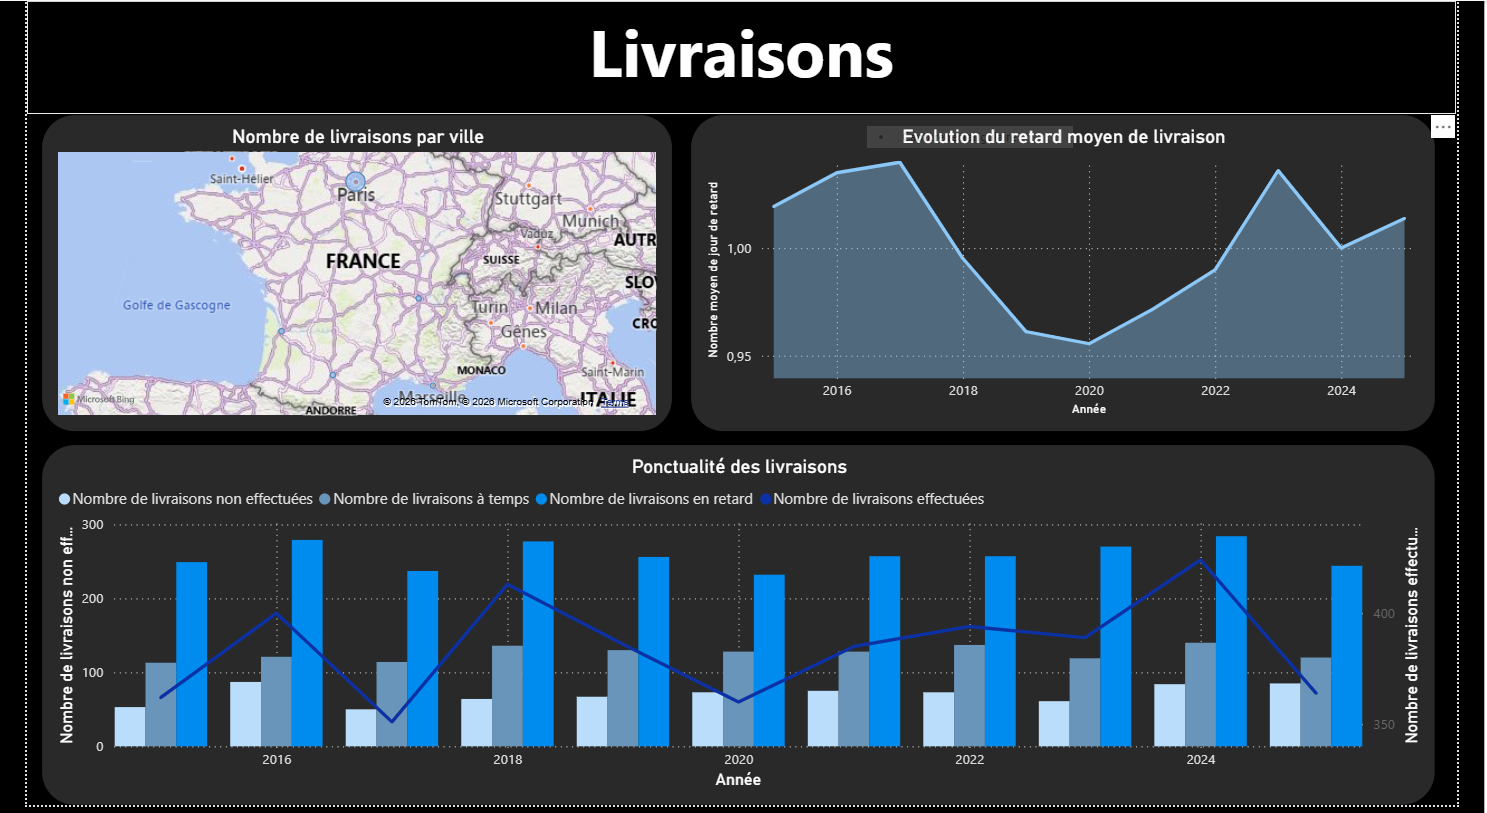

Layout of this report page (visuals, bound fields, positions):
{"tool":"powerbi","page":{"name":"Livraisons","canvas":[1280,720],"ordinal":4},"visuals":[{"type":"lineClusteredColumnComboChart","title":"Ponctualité des livraisons","fields":{"Category":["SAE_COMMANDEBOUQUET.DATECOMMANDE.Variation.Hiérarchie de dates.Année","SAE_COMMANDEBOUQUET.DATECOMMANDE.Variation.Hiérarchie de dates.Trimestre","SAE_COMMANDEBOUQUET.DATECOMMANDE.Variation.Hiérarchie de dates.Mois","SAE_COMMANDEBOUQUET.DATECOMMANDE.Variation.Hiérarchie de dates.Jour"],"Y":["Sum(SAE_COMMANDEBOUQUET.LivraisonNonEffectuer)","Sum(SAE_COMMANDEBOUQUET.CommandeNonRetarder)","Sum(SAE_COMMANDEBOUQUET.CommandeRetarder)"],"Y2":["CountNonNull(SAE_COMMANDEBOUQUET.DATELIVRAISONEFFECTIVE)"]},"box":[12.1,396.7,1249.2,324],"z":0},{"type":"areaChart","title":"Evolution du retard moyen de livraison","fields":{"Category":["SAE_COMMANDEBOUQUET.DATECOMMANDE.Variation.Hiérarchie de dates.Année","SAE_COMMANDEBOUQUET.DATECOMMANDE.Variation.Hiérarchie de dates.Trimestre","SAE_COMMANDEBOUQUET.DATECOMMANDE.Variation.Hiérarchie de dates.Mois","SAE_COMMANDEBOUQUET.DATECOMMANDE.Variation.Hiérarchie de dates.Jour"],"Y":["Avg(SAE_COMMANDEBOUQUET.Personnalisé)"]},"box":[593.6,101.5,667.8,284.7],"z":1000},{"type":"map","title":"Nombre de livraisons par ville","fields":{"Size":["CountNonNull(SAE_COMMANDEBOUQUET.NUMCOMMANDE)"],"Category":["SAE_COMMANDEBOUQUET.CODEPOSTALLIVRAISON"]},"box":[12.1,101.5,566.3,284.7],"z":2000},{"type":"textbox","box":[0,0,1279.5,101.5],"z":3000}]}

Visuals, with their boxes in screenshot pixels (x1, y1, x2, y2), scaled from the page's 1280x720 canvas onto the 1487x813 screenshot:
"Ponctualité des livraisons" lineClusteredColumnComboChart: 14, 448, 1465, 812
"Evolution du retard moyen de livraison" areaChart: 690, 115, 1465, 436
"Nombre de livraisons par ville" map: 14, 115, 672, 436
textbox: 0, 0, 1486, 115
